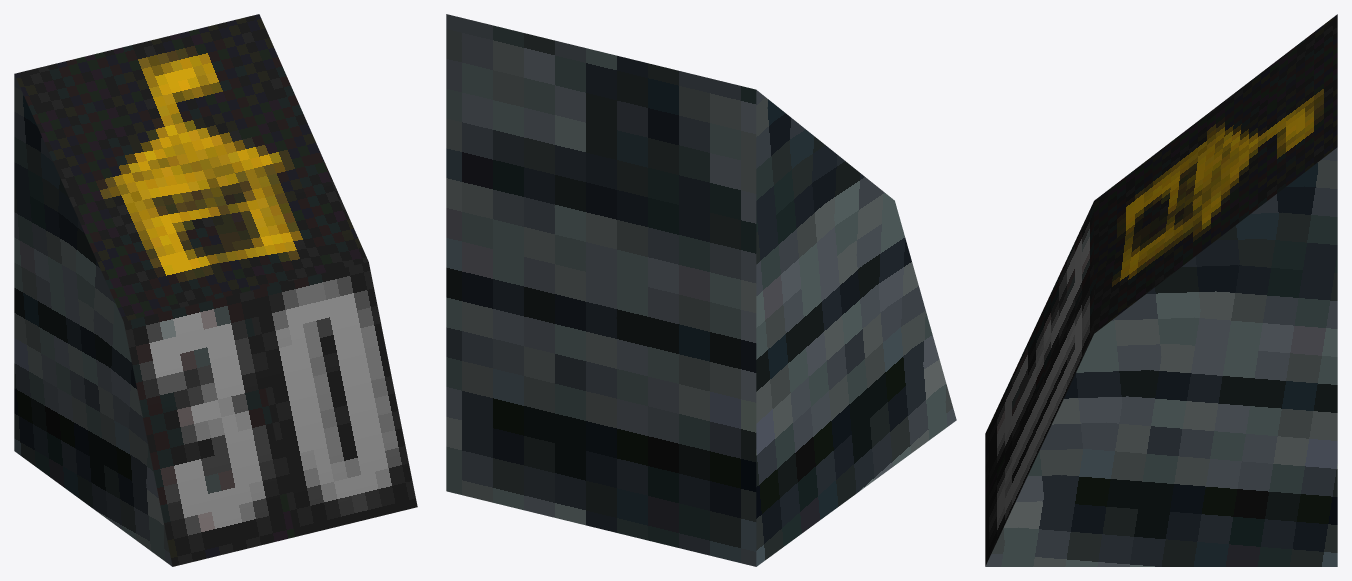
3 renders of one model, left to right at view 1: azimuth 30°, elevation 25°; view 2: azimuth 150°, elevation 25°; view 3: azimuth 270°, elevation 25°, orthographic. The views are drawn at different scales.
Visible parts, largest first — view 1: Slim_obj_029; view 2: Slim_obj_029; view 3: Slim_obj_029.
Boxes of the visible parts, x1,y1,x2,y2 form: Slim_obj_029: (14,14,417,566); Slim_obj_029: (446,14,956,566); Slim_obj_029: (985,14,1337,566).
Bounding box in the file's own units: 1 × 1.47 × 1.12.
1 material, 1 textured.
